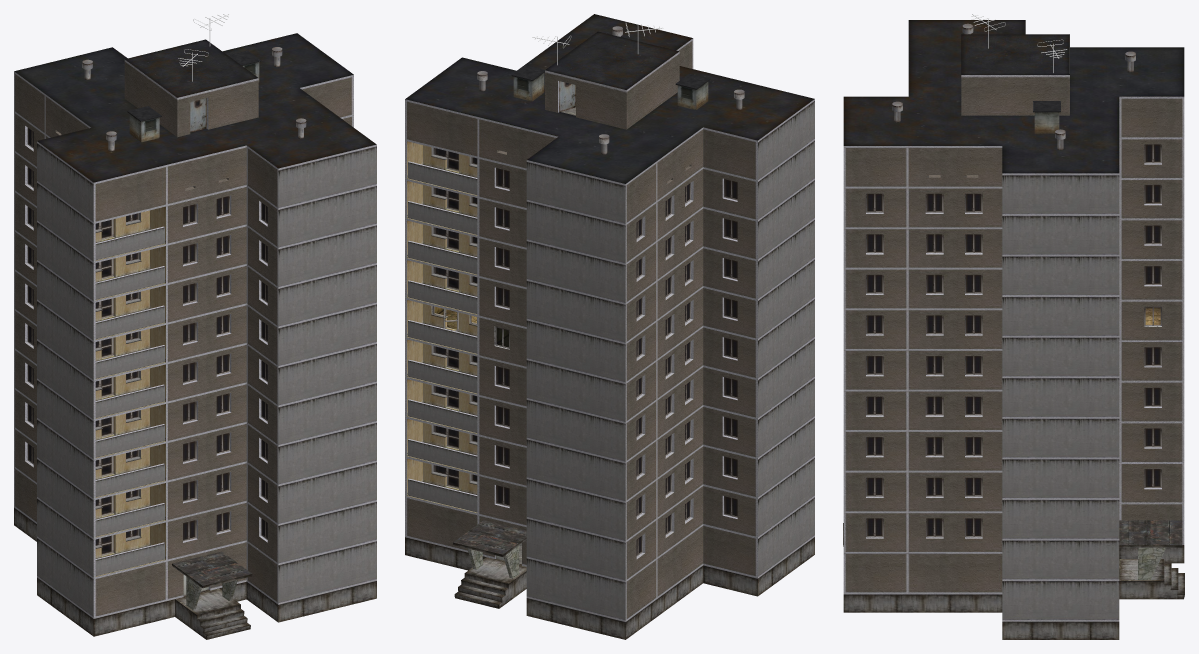
File: res_panel_9.glb
The picture shows the model from 3 angles, left to right: view 1: azimuth 30°, elevation 25°; view 2: azimuth 150°, elevation 25°; view 3: azimuth 270°, elevation 25°; orthographic projection. The views are drawn at different scales.
Visible parts, largest first — view 1: res_panel_9; view 2: res_panel_9; view 3: res_panel_9.
Boxes of the visible parts, x1=… form: res_panel_9: x1=14, y1=14, x2=376, y2=639; res_panel_9: x1=405, y1=14, x2=814, y2=639; res_panel_9: x1=843, y1=14, x2=1184, y2=639.
Bounding box in the file's own units: 17.68 × 28.83 × 16.65.
2 materials, 2 textured.
